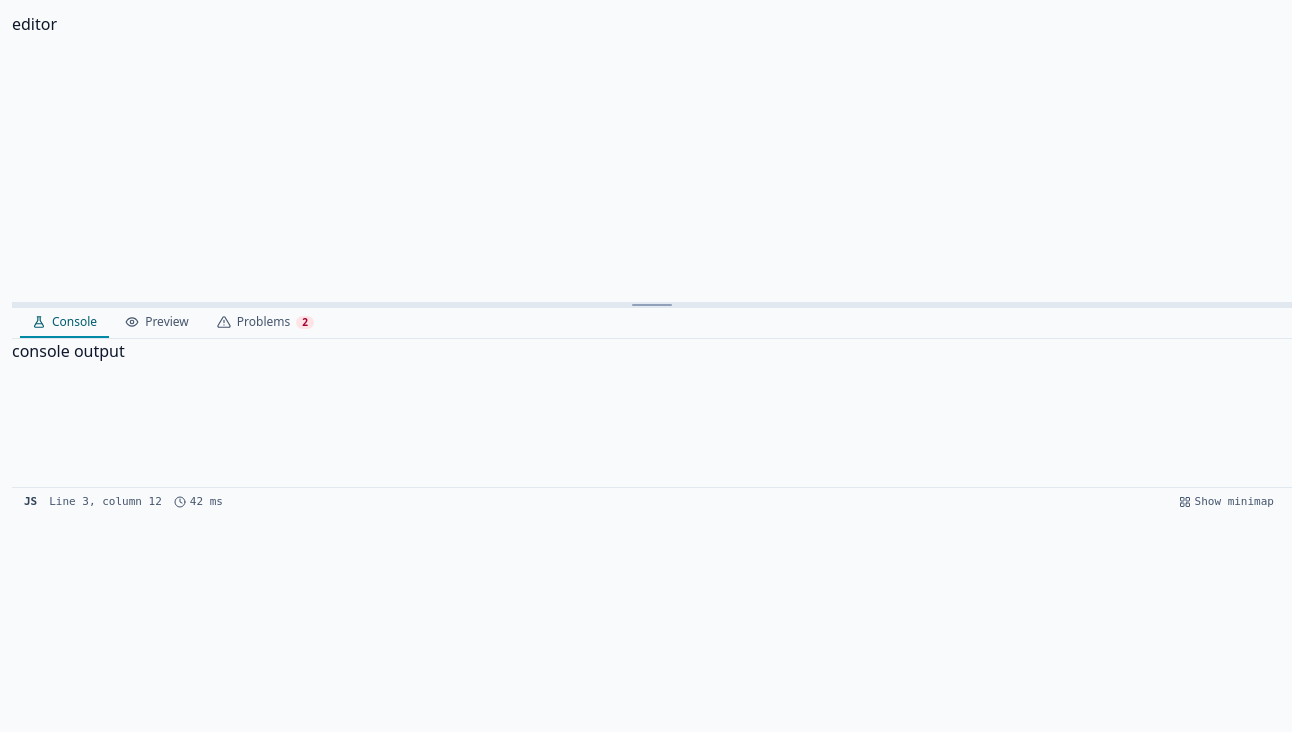
Test case: EditorWorkspace › keeps every panel mounted and only hides the inactive ones
The width and height of the screenshot is (1292, 732).
Expected: the text "console output" is shown, x1=12 y1=340 x2=125 y2=362
Expected: the text "two problems" is not shown
Click the tab named "Problems2". click: (265, 324)
box: x1=205 y1=308 x2=326 y2=338
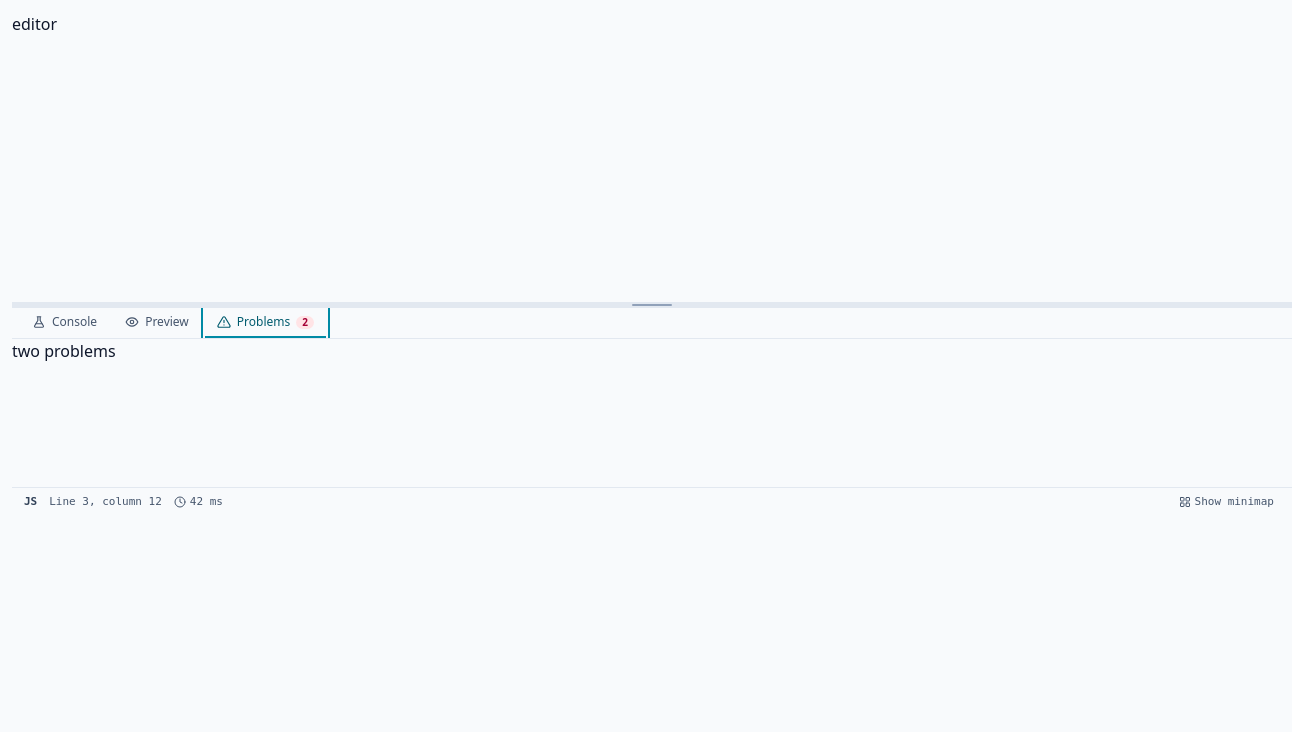
Now the text "two problems" is shown, box x1=12 y1=340 x2=116 y2=362
Now the text "console output" is gone
